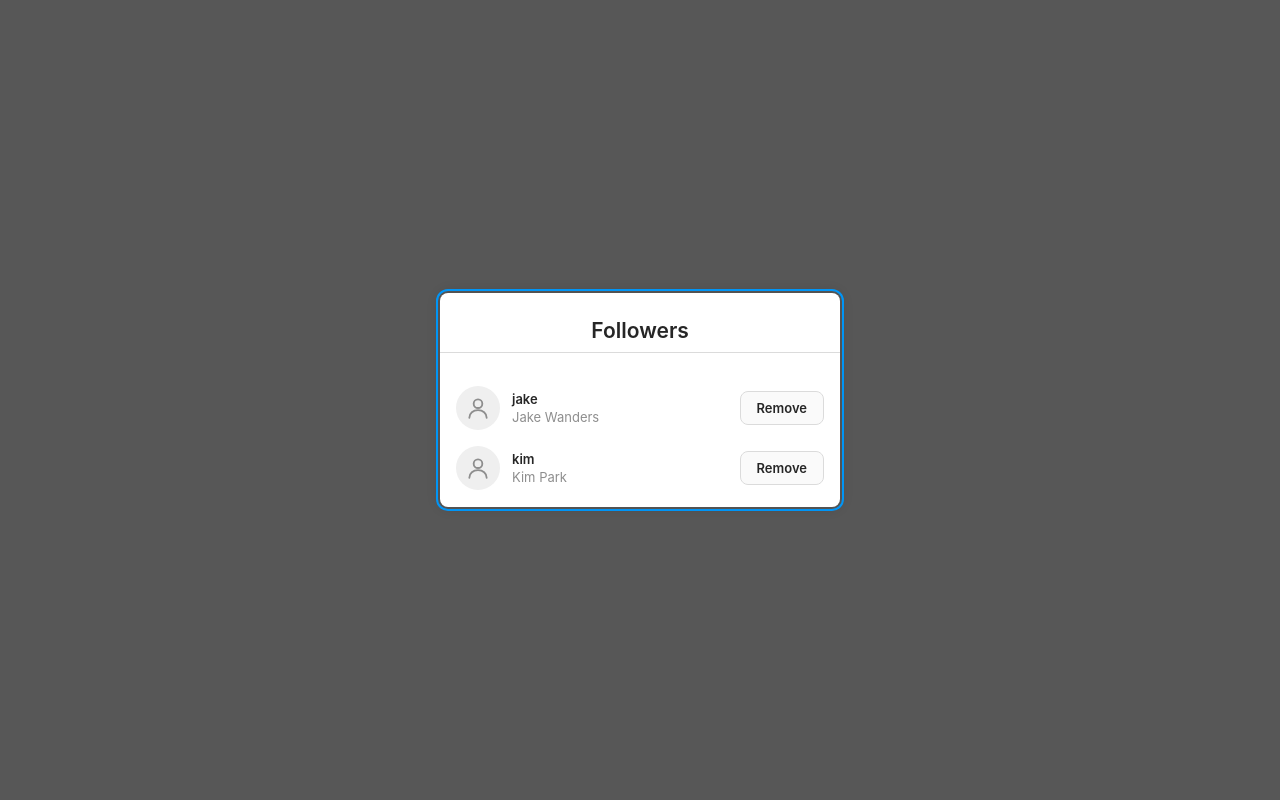
Test: UserListModal — removing a follower › removes only that follower, after a confirmation
The width and height of the screenshot is (1280, 800).
Click the button with aria-label "Remove jake" at (782, 408), box [740,391,824,425]
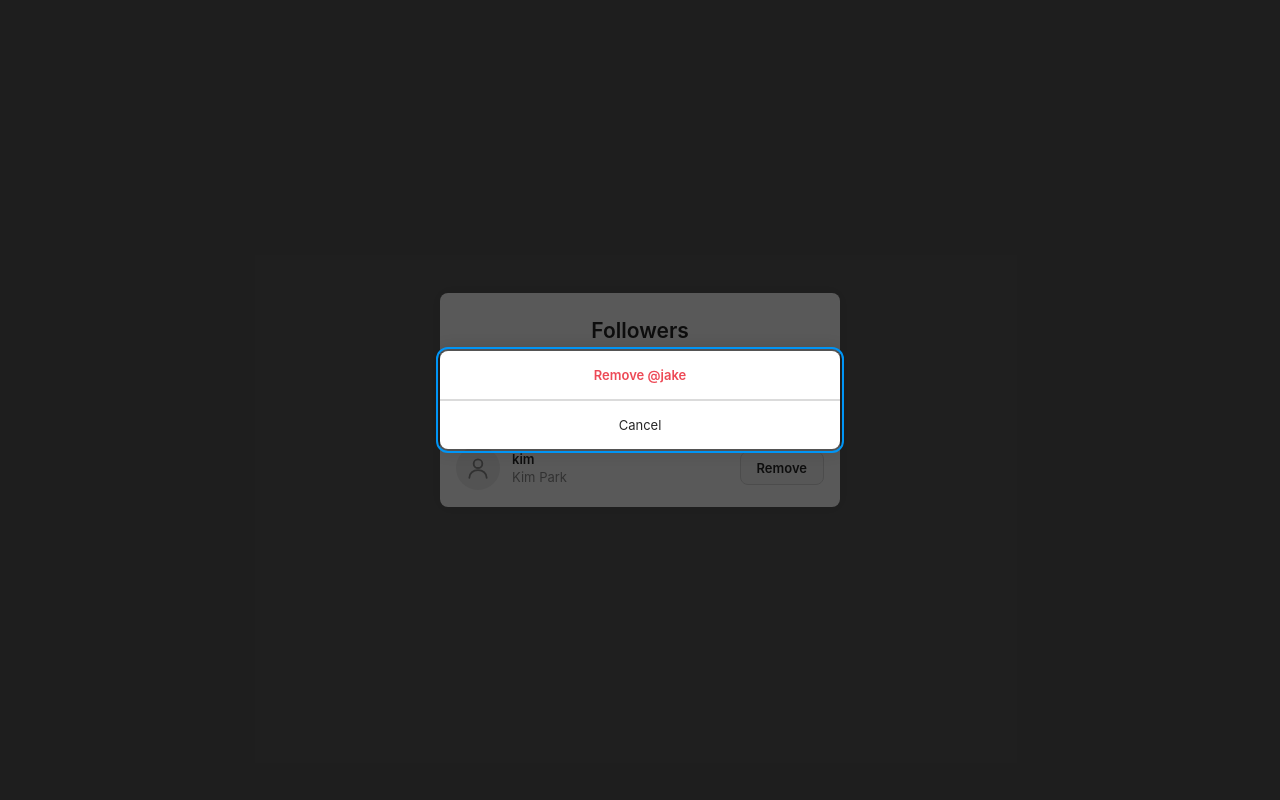
Click the button "Remove @jake" at (640, 376), box [440,351,840,400]
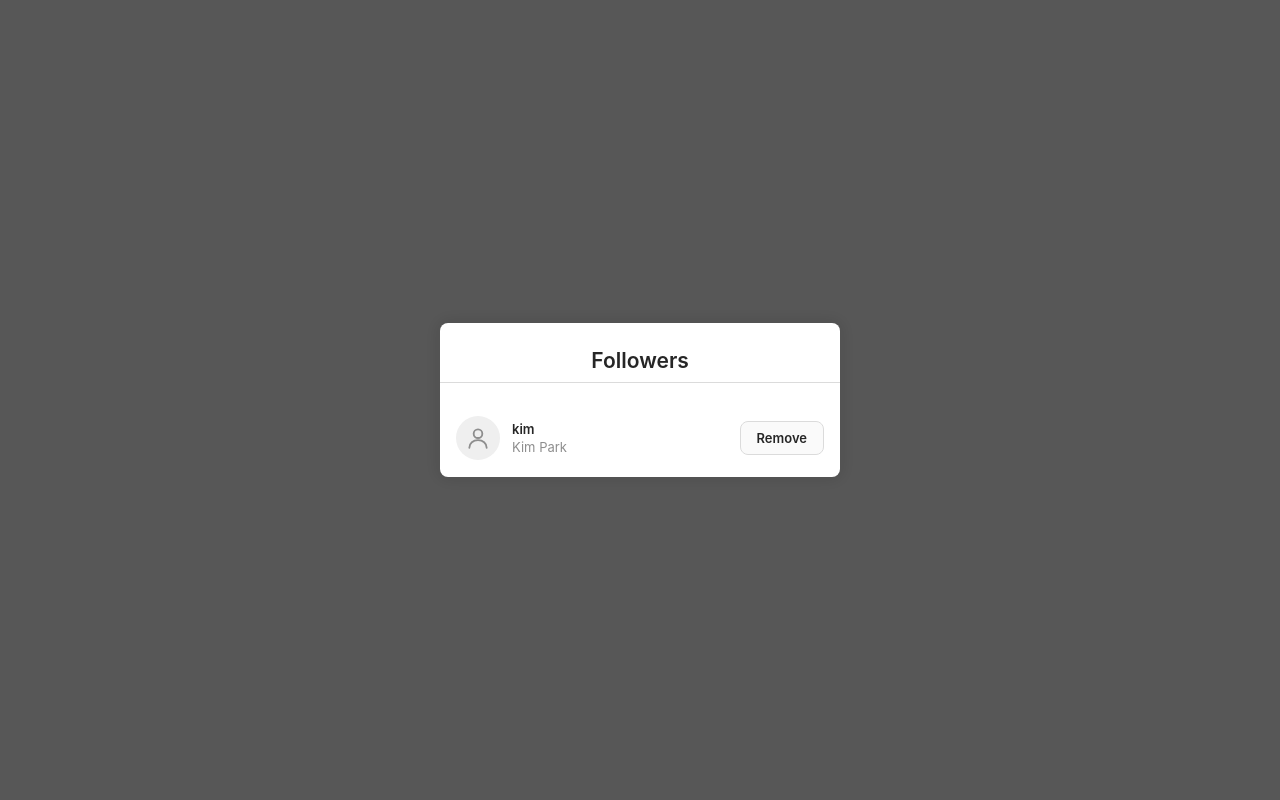
Expected: the text "kim" is shown, [512,421,534,437]
Expected: the link "jake" is gone
